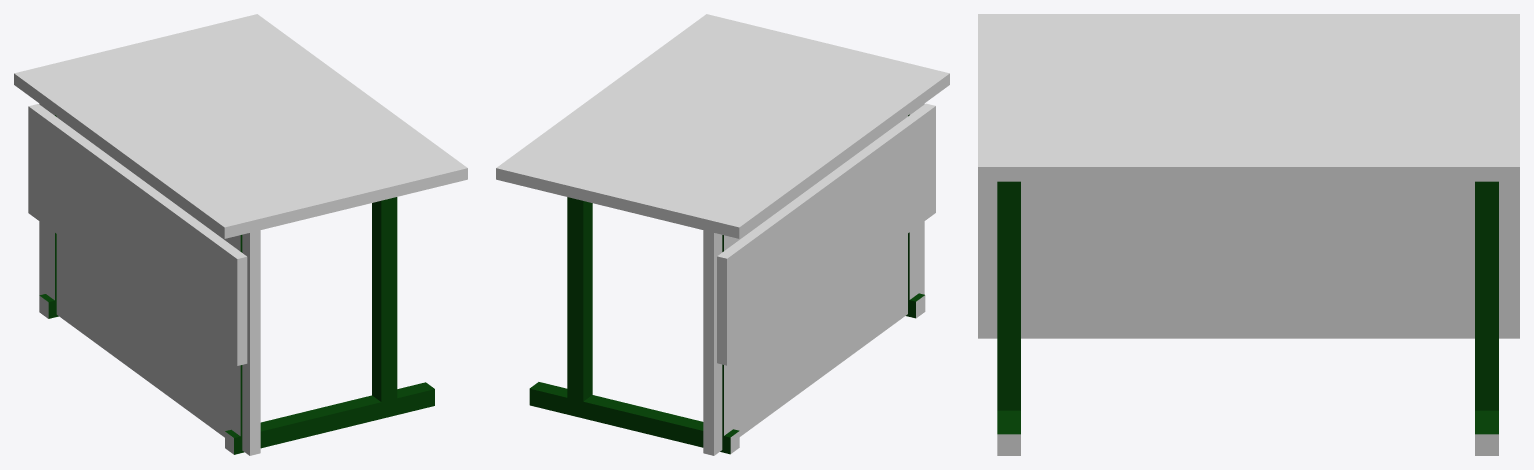
Rendered from desk_green.fbx.
3 renders of one model, left to right at view 1: azimuth 30°, elevation 25°; view 2: azimuth 150°, elevation 25°; view 3: azimuth 270°, elevation 25°, orthographic. The views are drawn at different scales.
Visible parts, largest first — view 1: хитбокс, Desk_LOD0; view 2: хитбокс, Desk_LOD0; view 3: хитбокс, Desk_LOD0.
Boxes of the visible parts, x1,y1,x2,y2 form: хитбокс: (14,14,467,455); Desk_LOD0: (28,104,434,454); хитбокс: (496,14,949,455); Desk_LOD0: (529,103,935,454); хитбокс: (978,14,1519,338); Desk_LOD0: (997,181,1498,455).
Size of the model in its own units: 242 by 225 by 363.
